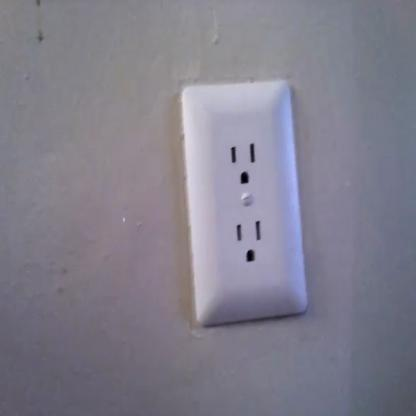OUTLET: (184, 84, 306, 313)
